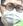with_mask: (1, 2, 23, 26)
